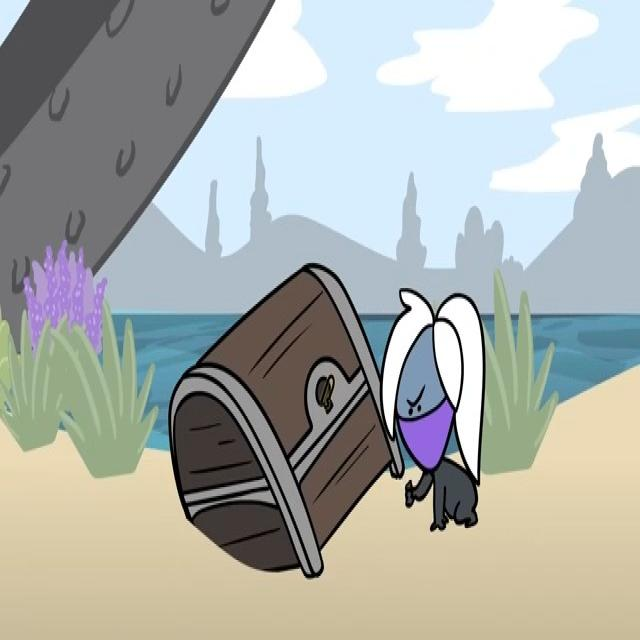miss Demeanor: (379, 287, 486, 532)
